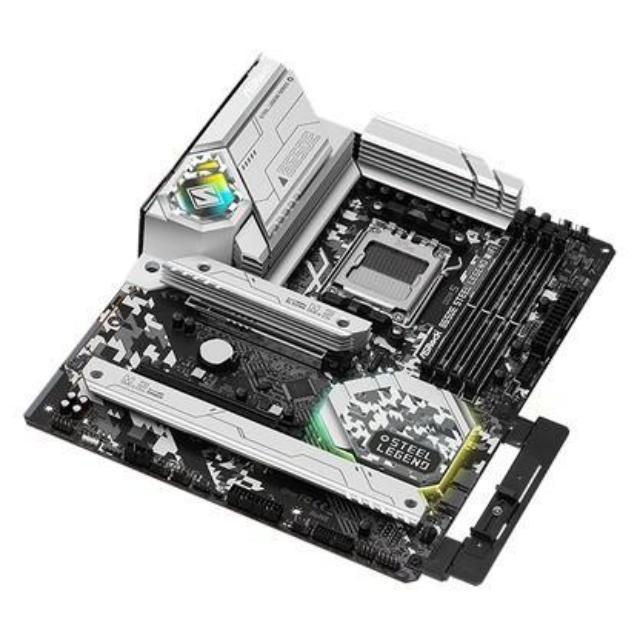Mainboard: (16, 46, 616, 594)
